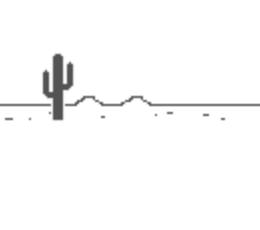t-rex: (39, 50, 77, 125)
